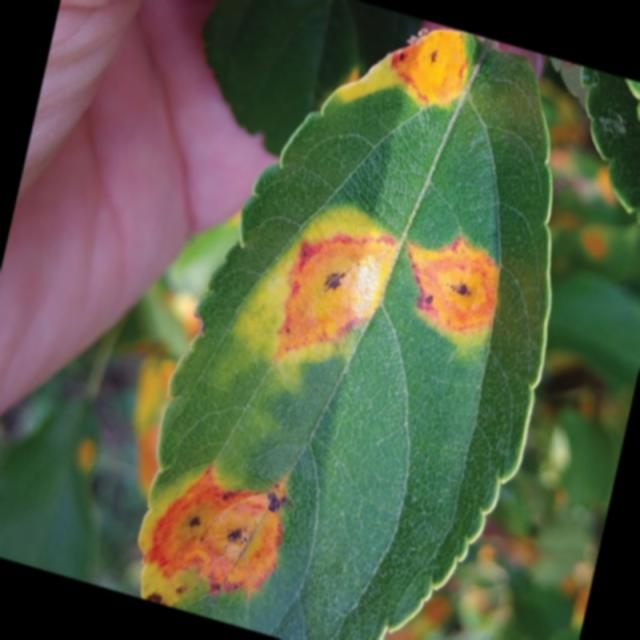Gymnosporangium_Rusts: (126, 0, 534, 640)
